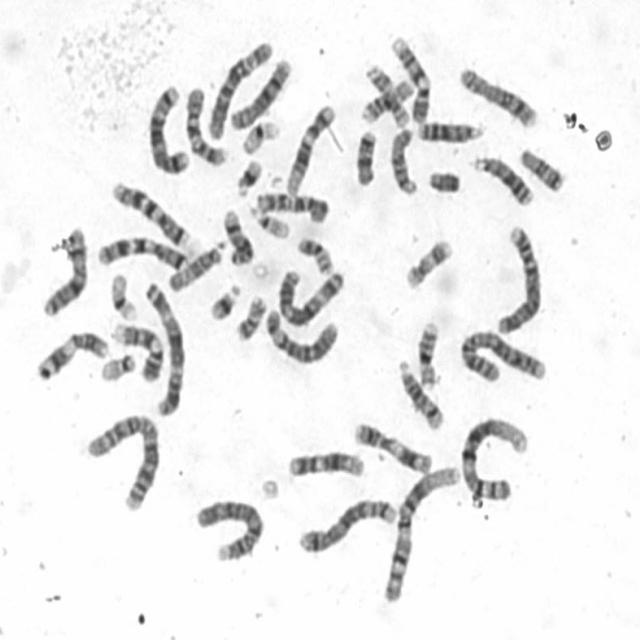A1: (381, 465, 462, 602), (460, 414, 532, 499)
A2: (86, 410, 160, 514), (459, 330, 546, 385)
A3: (143, 282, 186, 416), (279, 269, 345, 328)
B4: (496, 223, 544, 335), (194, 494, 268, 564)
B5: (299, 497, 396, 554), (148, 84, 190, 178)
C10: (184, 87, 228, 166), (255, 192, 330, 225)
C11: (355, 424, 433, 474), (38, 331, 109, 379)
C12: (286, 105, 336, 196), (286, 453, 365, 478)
C6: (208, 41, 272, 141), (263, 307, 341, 366)
C7: (112, 182, 190, 248), (96, 236, 188, 272)
C8: (458, 66, 538, 128), (229, 57, 292, 132)
C9: (390, 36, 432, 124), (111, 324, 164, 384)
D13: (472, 156, 534, 205), (417, 122, 487, 145)
D14: (396, 359, 444, 431), (223, 209, 254, 266)
D15: (166, 239, 227, 292), (390, 127, 418, 198)
E16: (358, 79, 416, 124), (418, 321, 440, 390)
E17: (362, 61, 412, 127), (404, 239, 457, 292)
E18: (519, 147, 563, 192), (355, 128, 379, 189)
F19: (241, 120, 281, 157), (110, 273, 138, 321)
F20: (236, 295, 268, 343), (295, 238, 334, 276)
G21: (208, 283, 241, 320), (236, 159, 263, 199)
G22: (249, 206, 289, 242), (100, 352, 137, 384)
X: (42, 227, 87, 317)
Y: (428, 169, 464, 201)
